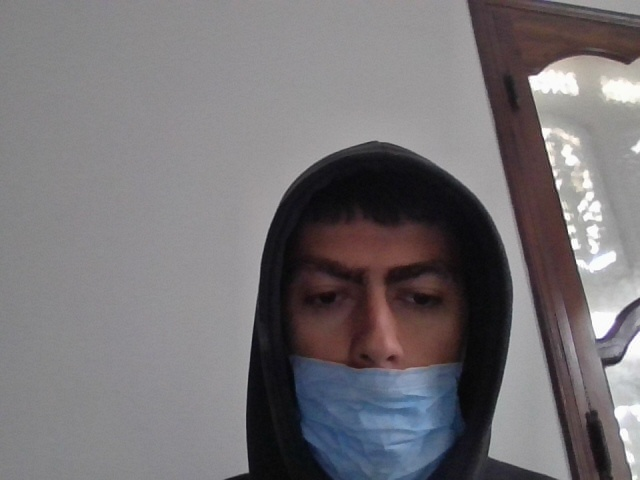mask_weared_incorrect: (281, 183, 496, 479)
